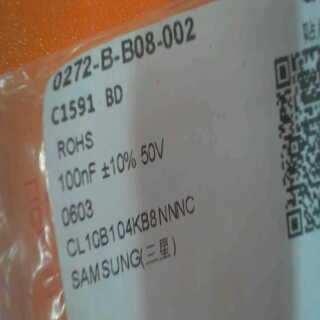100nF: (55, 159, 96, 193)
